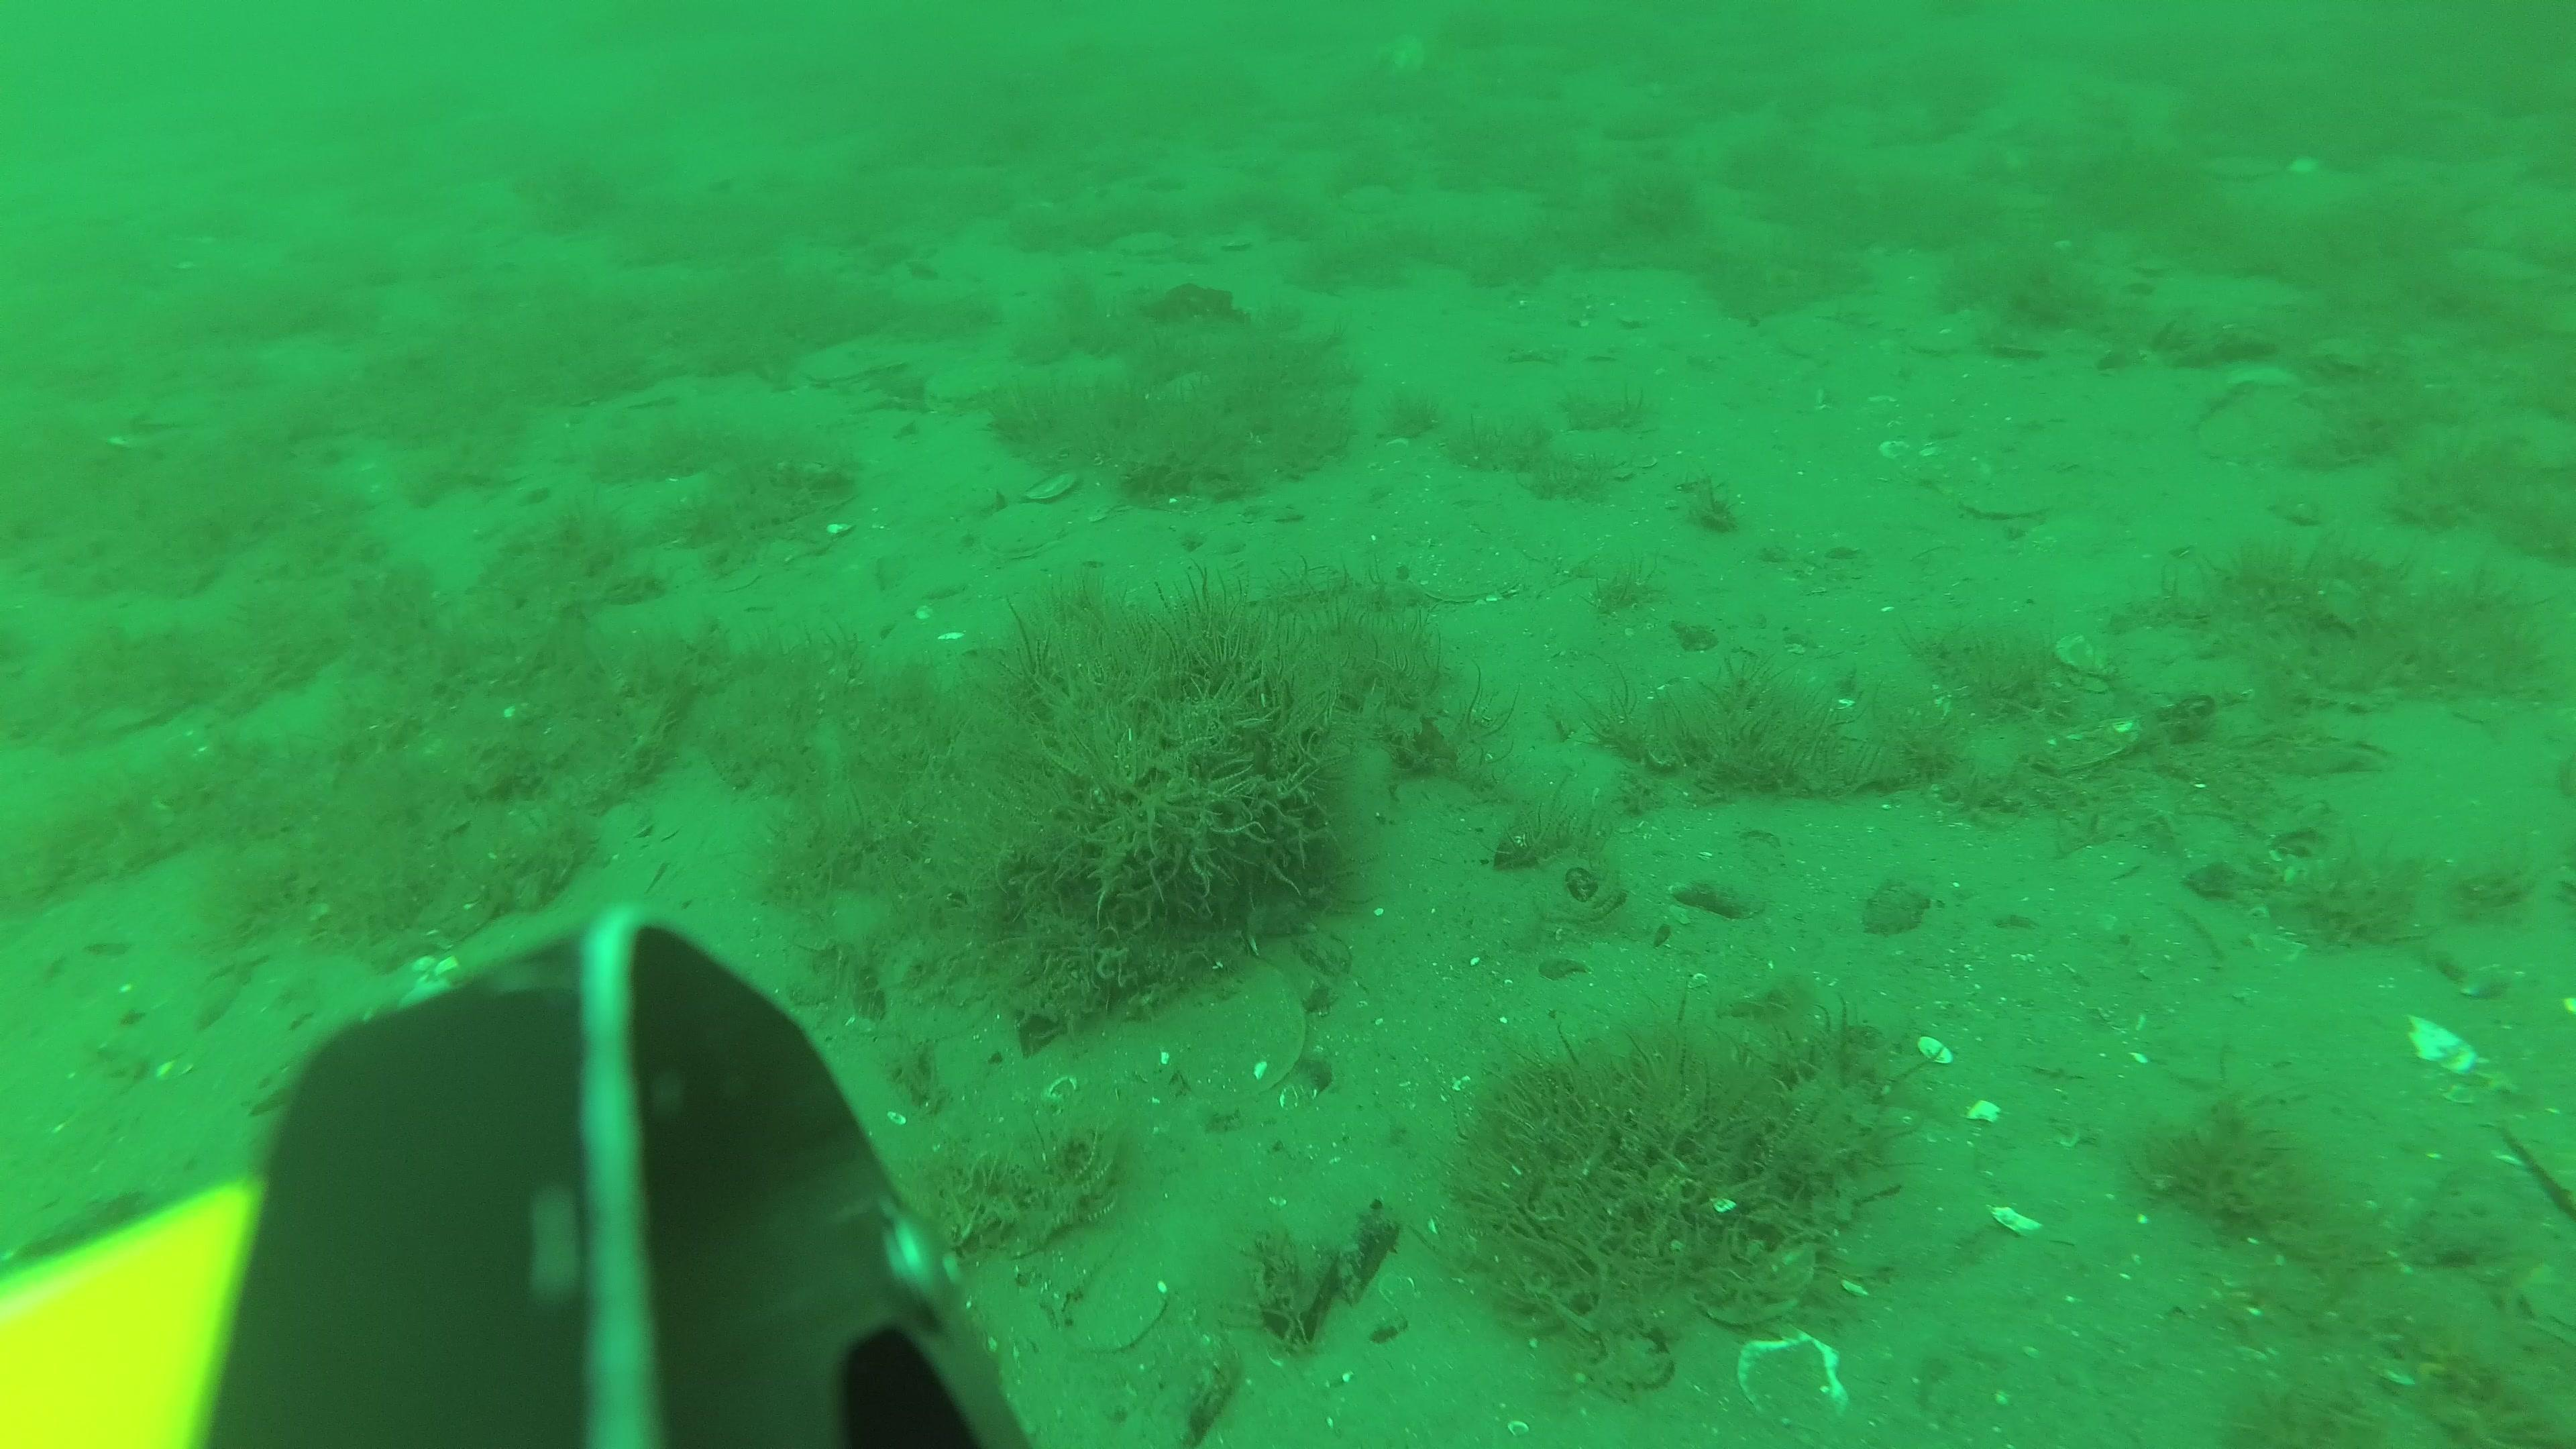scallop: (1178, 961, 1309, 1106), (1737, 1330, 1845, 1424), (1076, 1265, 1164, 1348), (984, 506, 1060, 557), (1962, 478, 2052, 518)
